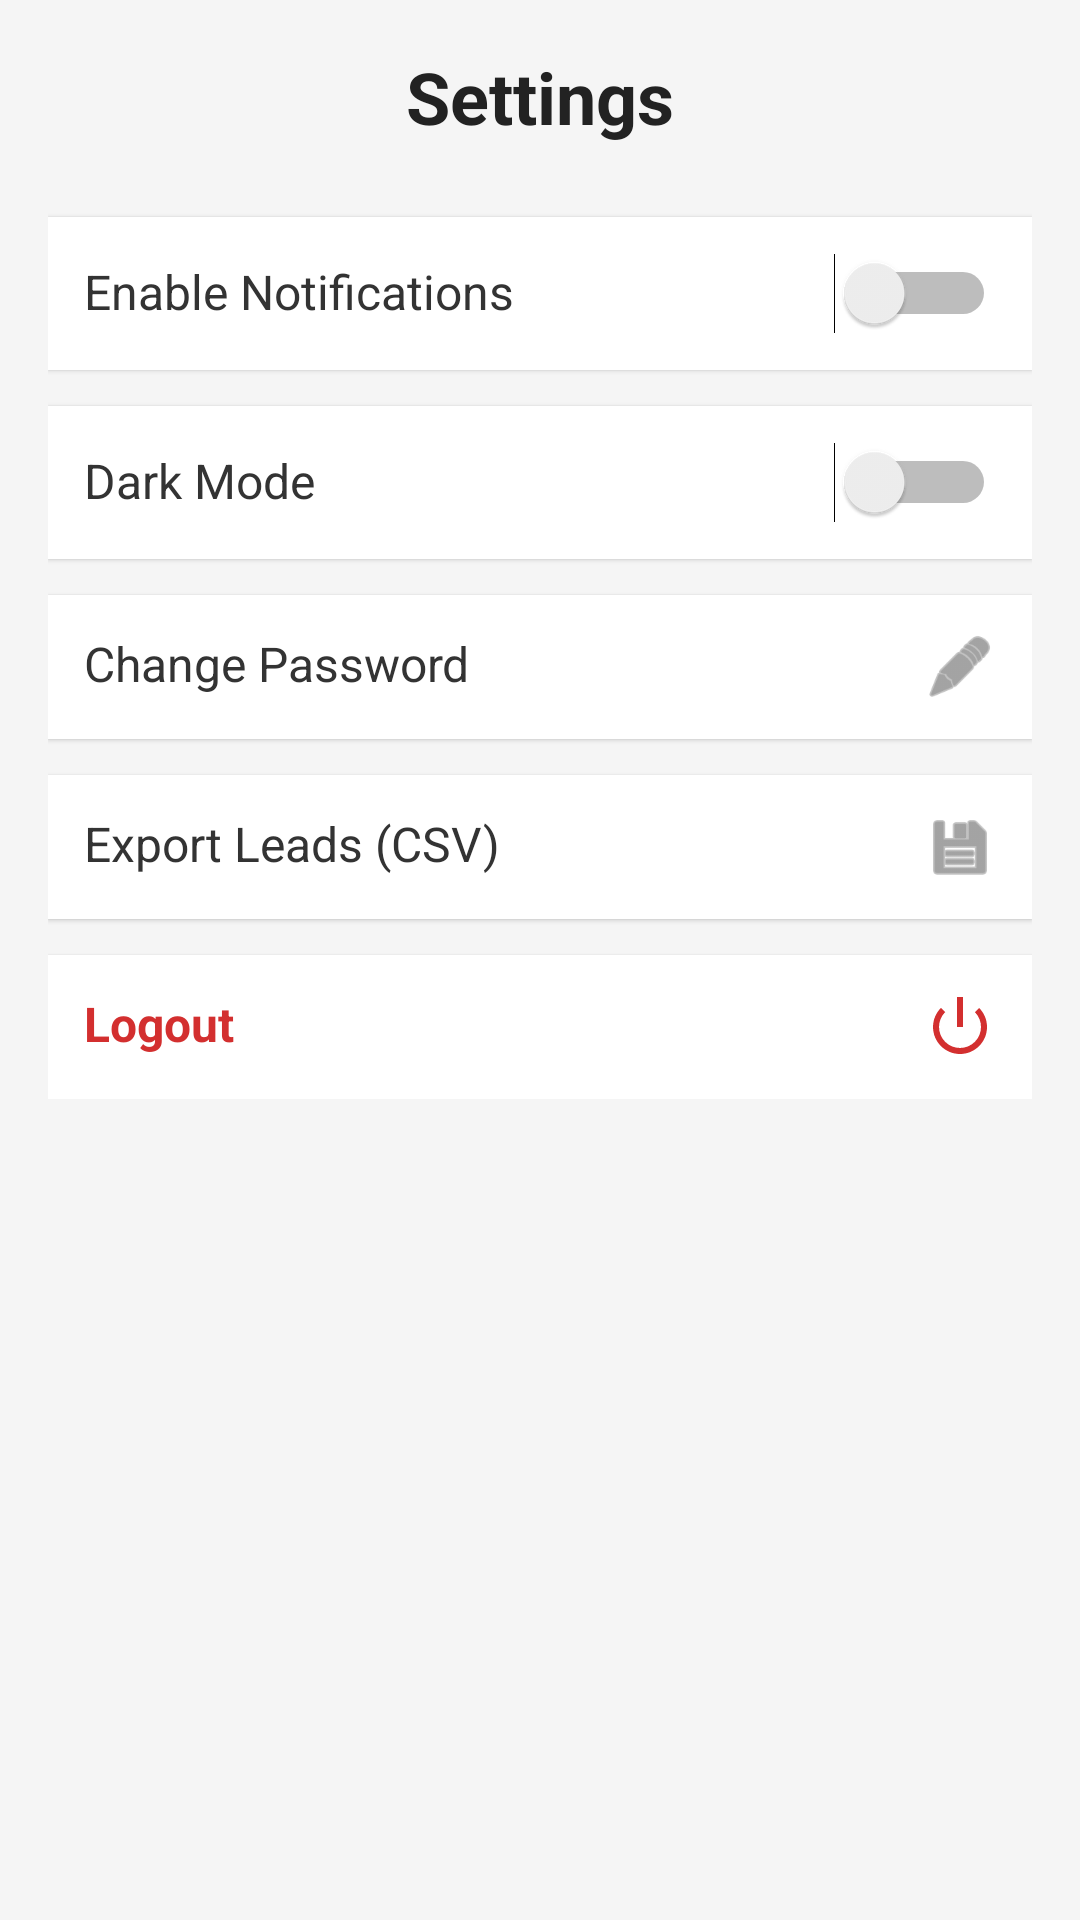

Where to tap for icons on this 1080px×1920px app screen, as [x,y]:
edit: [959,666]
lock power off: [960,1025]
save: [960,847]
